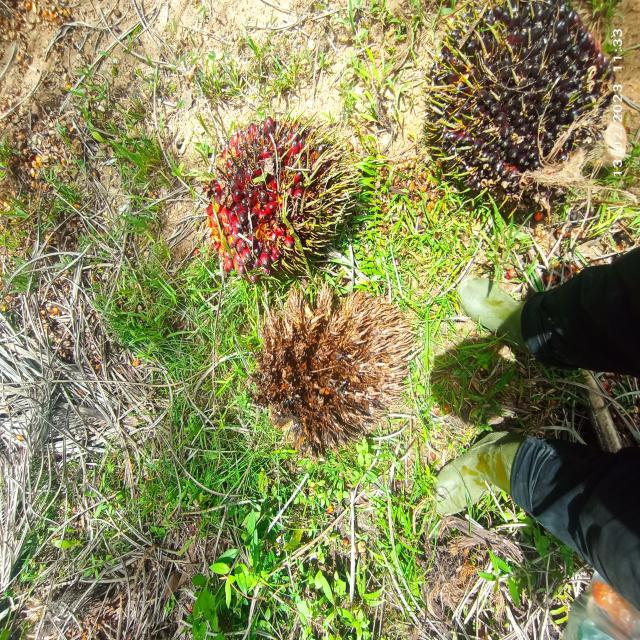fraksi 00: (420, 0, 628, 238)
fraksi 1: (190, 103, 371, 288)
